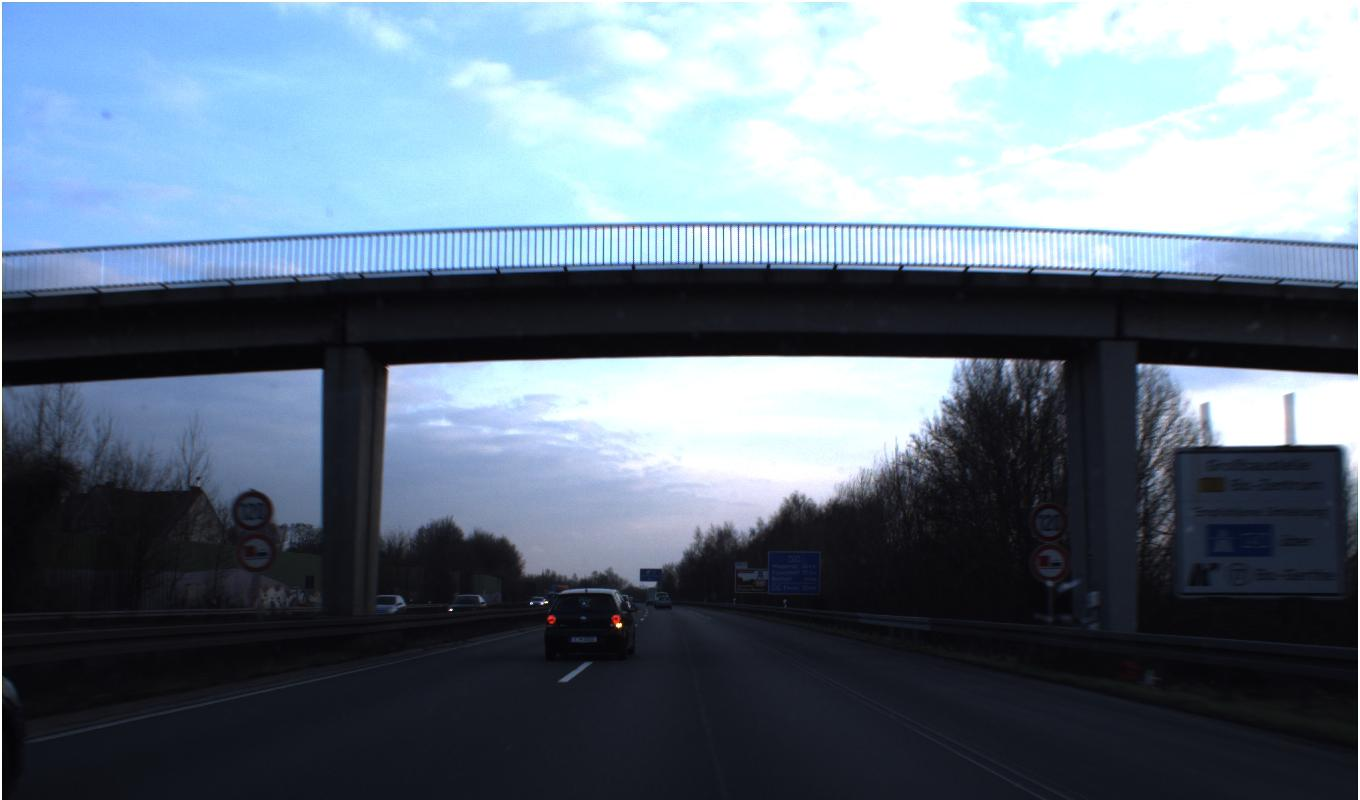prohibitory: (230, 488, 274, 530), (1028, 542, 1071, 583), (235, 533, 276, 573), (1028, 501, 1068, 541)
